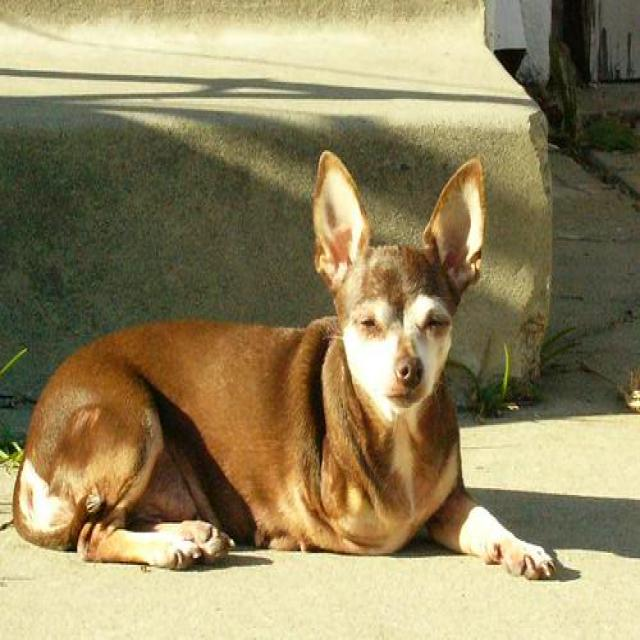chihuahua: (10, 148, 552, 580)
